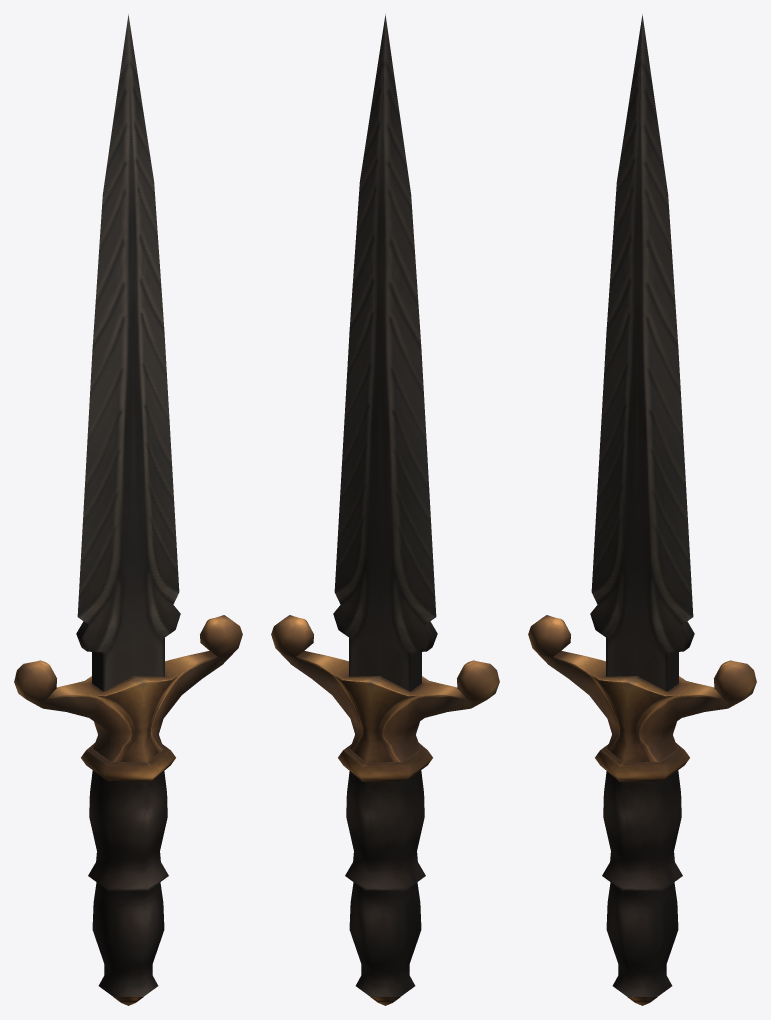
The model's file is 95_weapon.FBX.
3 renders of one model, left to right at view 1: azimuth 30°, elevation 25°; view 2: azimuth 150°, elevation 25°; view 3: azimuth 330°, elevation 25°, orthographic.
Visible parts, largest first — view 1: 95_weapon; view 2: 95_weapon; view 3: 95_weapon.
Boxes of the visible parts, x1,y1,x2,y2 form: 95_weapon: [14, 14, 242, 1005]; 95_weapon: [271, 14, 499, 1005]; 95_weapon: [528, 14, 756, 1005].
Size of the model in its own units: 356 by 1532 by 144.
